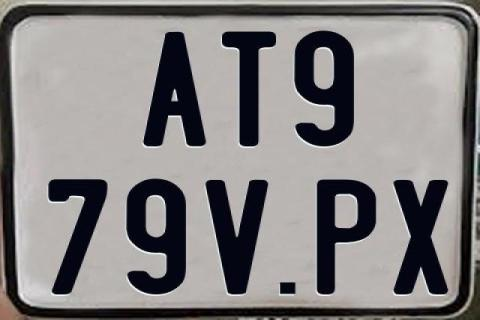0: (45, 177, 109, 295), (291, 31, 353, 151), (125, 178, 188, 296)
A: (142, 31, 210, 148)
P: (314, 180, 375, 298)
T: (221, 29, 277, 147)
V: (205, 179, 273, 296)
X: (393, 178, 448, 294)
